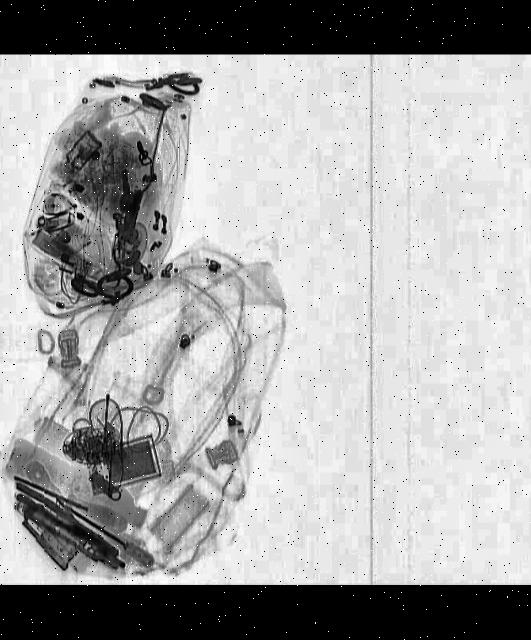Pliers: (7, 478, 123, 563)
